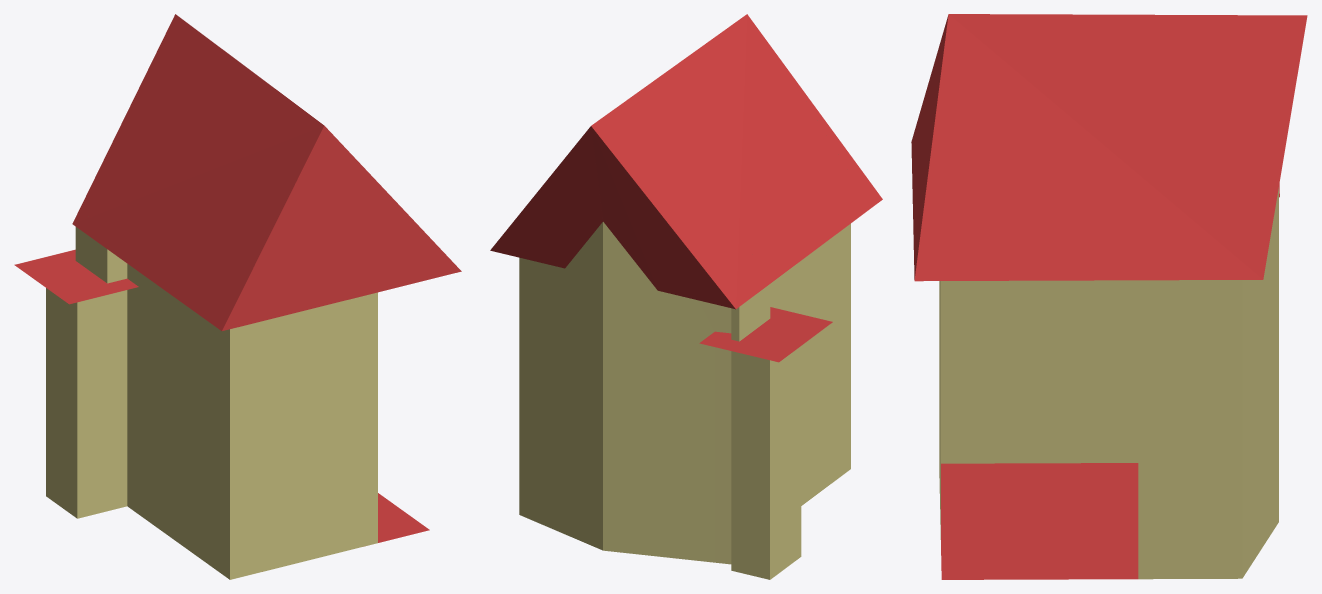
The picture shows the model from 3 angles, left to right: view 1: azimuth 30°, elevation 25°; view 2: azimuth 150°, elevation 25°; view 3: azimuth 270°, elevation 25°; orthographic projection. The views are drawn at different scales.
Parts seen in each view (by area): view 1: group_6, group_3, group_5, group_10, group_8, group_7; view 2: group_6, group_3, group_4, group_10, group_5, group_8, group_9; view 3: group_6, group_3, group_7, group_5.
Part boxes in pixels (x1,y1,x2,y2): group_6: (75,227,377,579); group_3: (72,14,461,330); group_5: (72,16,461,330); group_10: (46,288,107,518); group_8: (14,249,138,304); group_7: (378,493,429,542); group_6: (519,222,850,572); group_3: (591,14,850,308); group_4: (490,126,735,309); group_10: (739,346,801,579); group_5: (592,58,882,308); group_8: (699,307,832,362); group_9: (700,307,831,361); group_6: (939,187,1278,579); group_3: (912,14,1306,281); group_7: (941,463,1138,579); group_5: (911,15,1307,281).
Size of the model in its own units: 10.99 by 10.83 by 15.28.
